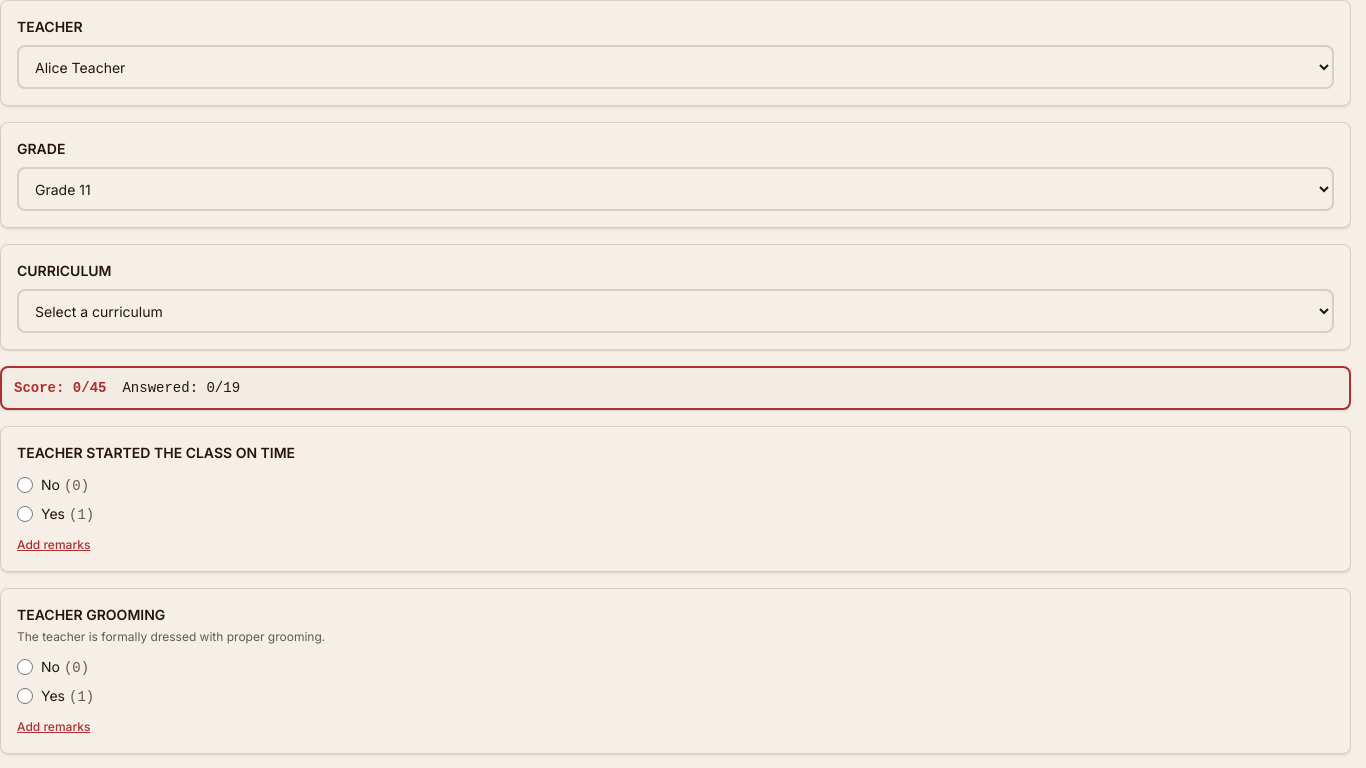
Test: ClassroomObservationForm › curriculum, chapter, and topic dropdowns › shows an empty topic dropdown when the selected chapter has no active topics
This screenshot has width=1366, height=768.
Select "NEET" in the dropdown with test id "curriculum-select" at (676, 311), box [17,289,1334,333]
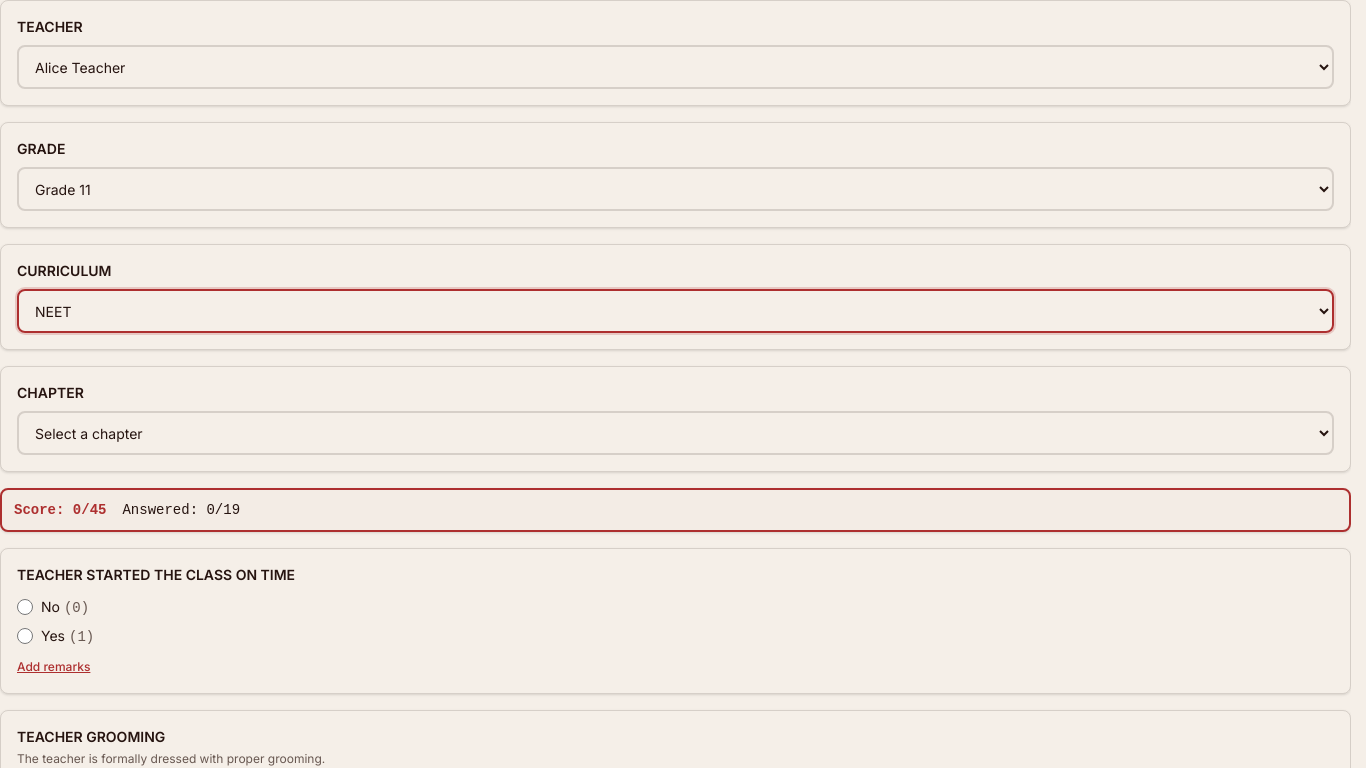
Select "Chemistry - Some Basic Concepts of Chemistry (11C1)" in the dropdown with test id "chapter-select" at (676, 433), box [17,411,1334,455]
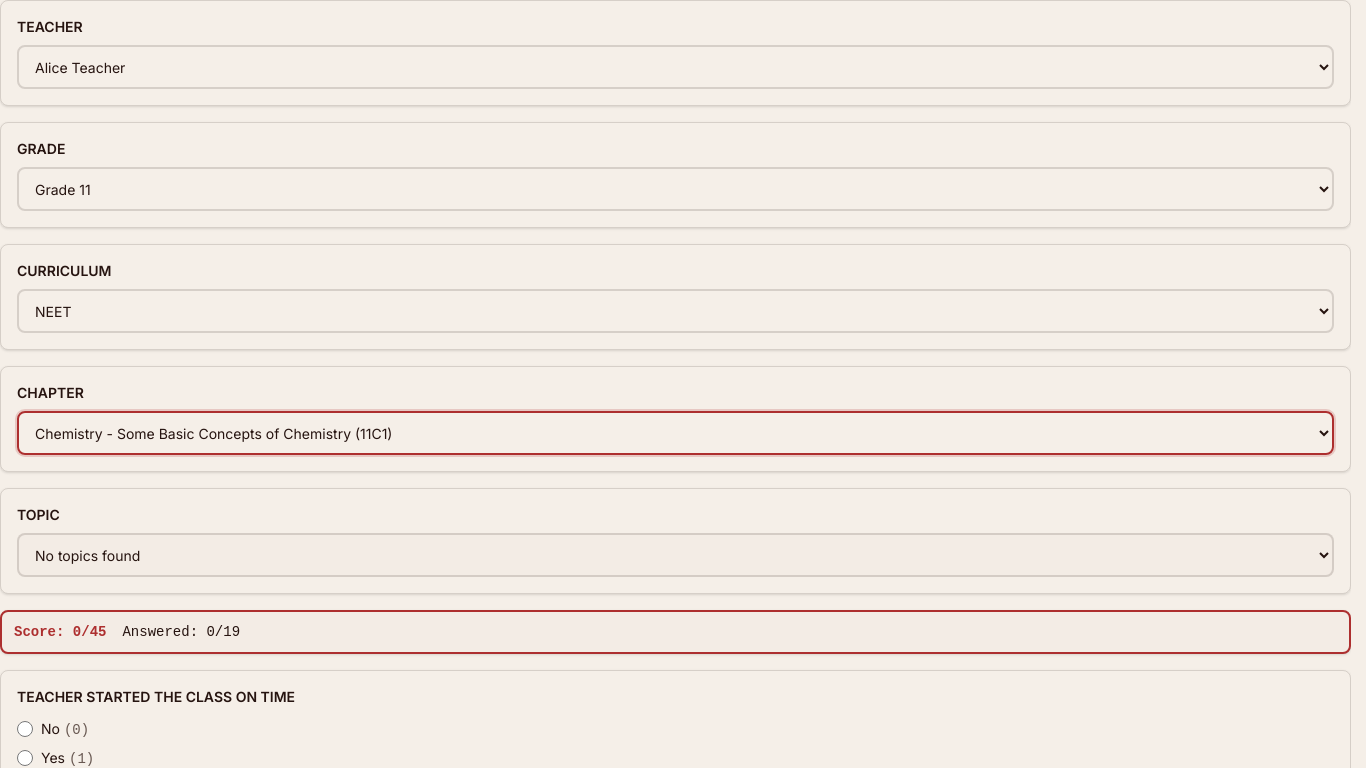
Now the dropdown with test id "topic-select" is disabled, box [17,533,1334,577]
